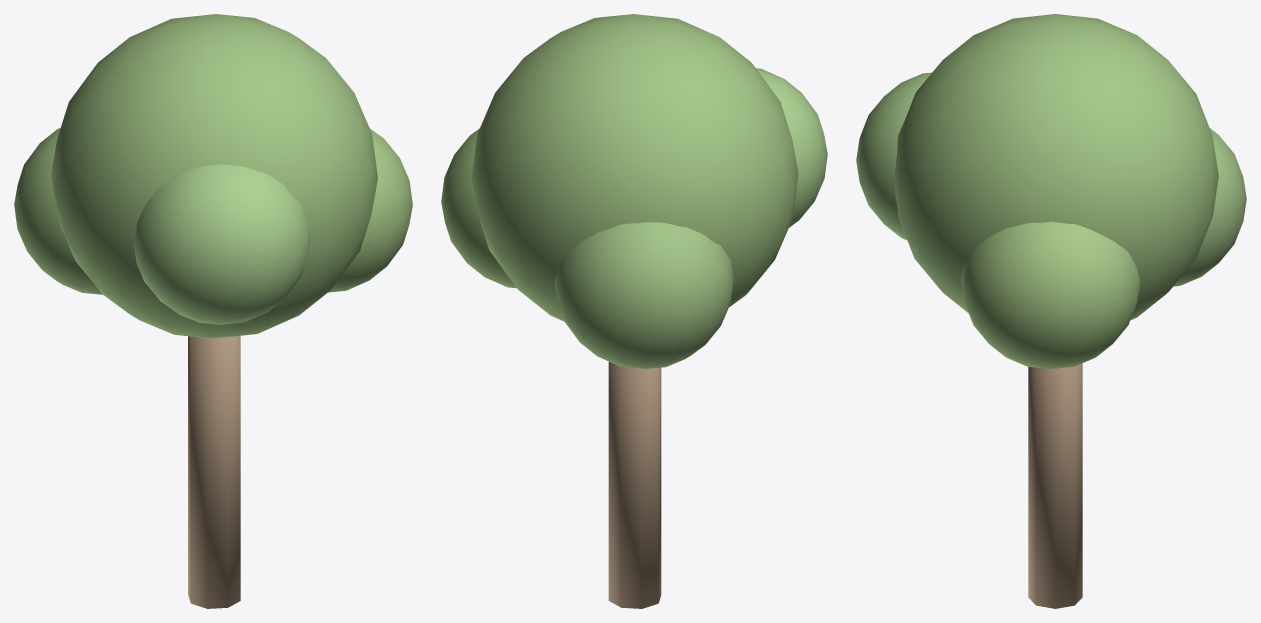
The model's file is plant_tree_oak_spring.glb.
3 renders of one model, left to right at view 1: azimuth 30°, elevation 25°; view 2: azimuth 150°, elevation 25°; view 3: azimuth 270°, elevation 25°, orthographic.
Visible parts, largest first — view 1: crown_main, crown_sub1, trunk, crown_sub2, crown_sub0; view 2: crown_main, crown_sub2, trunk, crown_sub0, crown_sub1; view 3: crown_main, crown_sub0, trunk, crown_sub1, crown_sub2.
Part boxes in pixels (left/top/right/bottom): crown_main: left=51, top=14, right=377, bottom=338; crown_sub1: left=133, top=164, right=310, bottom=324; trunk: left=188, top=335, right=240, bottom=608; crown_sub2: left=14, top=128, right=102, bottom=294; crown_sub0: left=328, top=128, right=412, bottom=292; crown_main: left=471, top=14, right=798, bottom=321; crown_sub2: left=554, top=222, right=733, bottom=369; trunk: left=608, top=362, right=661, bottom=608; crown_sub0: left=441, top=128, right=516, bottom=288; crown_sub1: left=756, top=68, right=827, bottom=227; crown_main: left=894, top=14, right=1218, bottom=320; crown_sub0: left=961, top=221, right=1140, bottom=369; trunk: left=1028, top=363, right=1082, bottom=608; crown_sub1: left=856, top=72, right=931, bottom=240; crown_sub2: left=1173, top=128, right=1246, bottom=286.
Bounding box in the file's own units: 0.9658 × 1.61 × 1.
